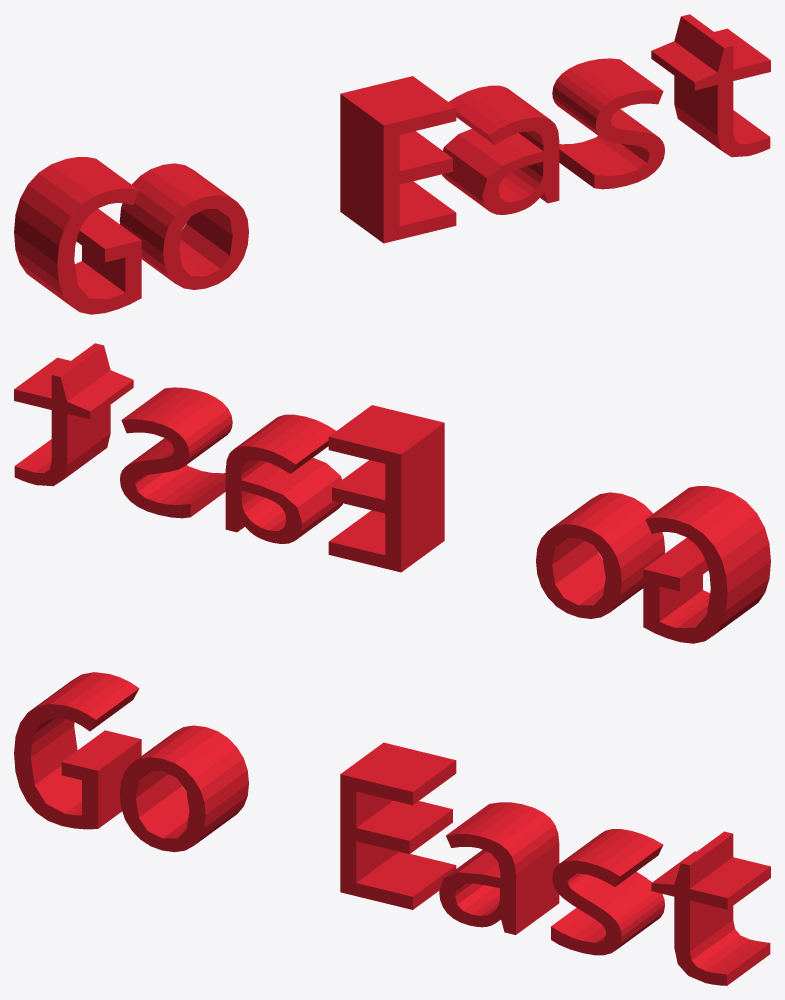
The model's file is World1Option1.obj.
The picture shows the model from 3 angles, top to bottom: view 1: azimuth 30°, elevation 25°; view 2: azimuth 150°, elevation 25°; view 3: azimuth 330°, elevation 25°; orthographic projection.
Parts seen in each view (by area): view 1: obj_0; view 2: obj_0; view 3: obj_0.
Part boxes in pixels (x1=…): obj_0: x1=14, y1=14, x2=770, y2=314; obj_0: x1=14, y1=343, x2=770, y2=643; obj_0: x1=14, y1=672, x2=770, y2=985.
Size of the model in its own units: 75.99 by 12.35 by 8.
